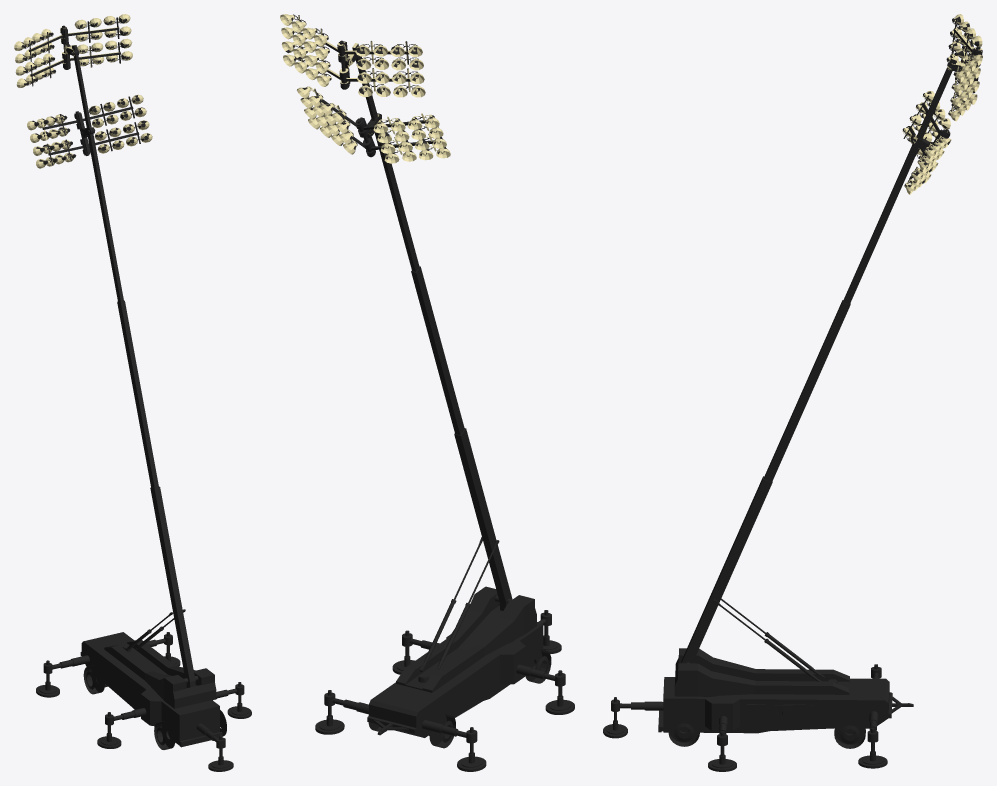
File: light_tower_2.obj
The picture shows the model from 3 angles, left to right: view 1: azimuth 30°, elevation 25°; view 2: azimuth 150°, elevation 25°; view 3: azimuth 270°, elevation 25°; orthographic projection. The views are drawn at different scales.
Visible parts, largest first — view 1: light_tower.002; view 2: light_tower.002; view 3: light_tower.002.
Part boxes in pixels (x1=…): light_tower.002: x1=14, y1=14, x2=251, y2=771; light_tower.002: x1=280, y1=14, x2=574, y2=771; light_tower.002: x1=603, y1=14, x2=982, y2=771.
Bounding box in the file's own units: 1.38 × 5.53 × 2.74.
1 material, 1 textured.
